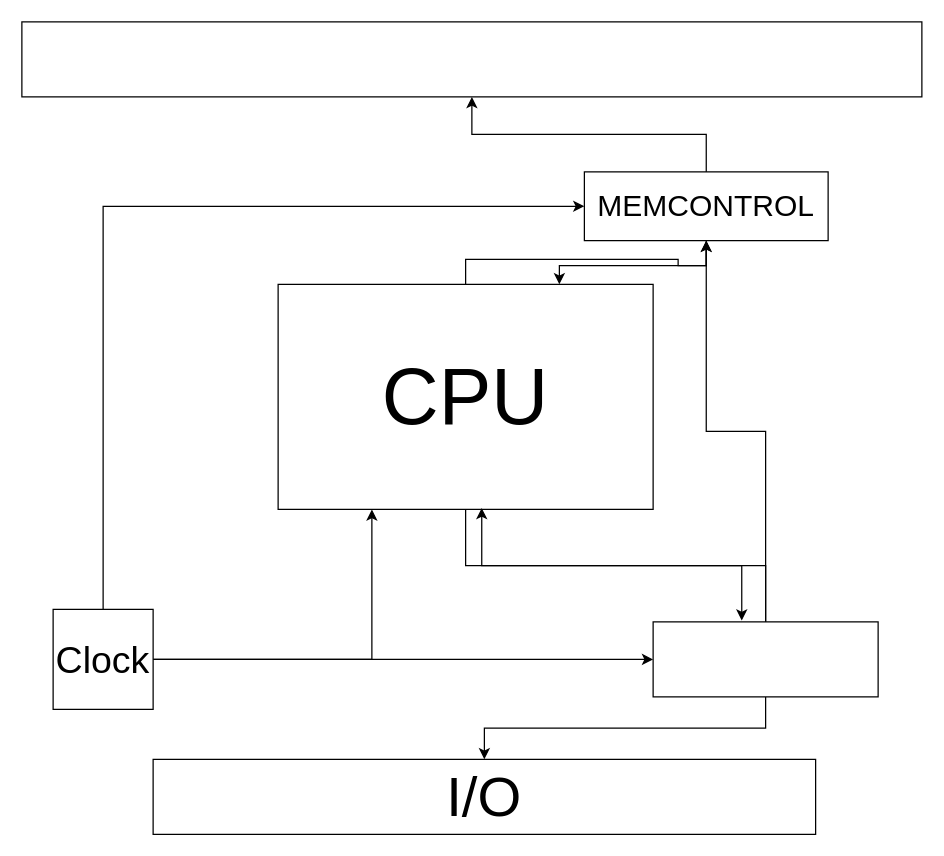
Some shapes in this 944 by 856 pixel diagram are drawn without their labels. Here are the shapes that lost their labels. From the top down, the centre of each, then its label:
point (471, 59): Memory
point (765, 659): IOCONTROL
